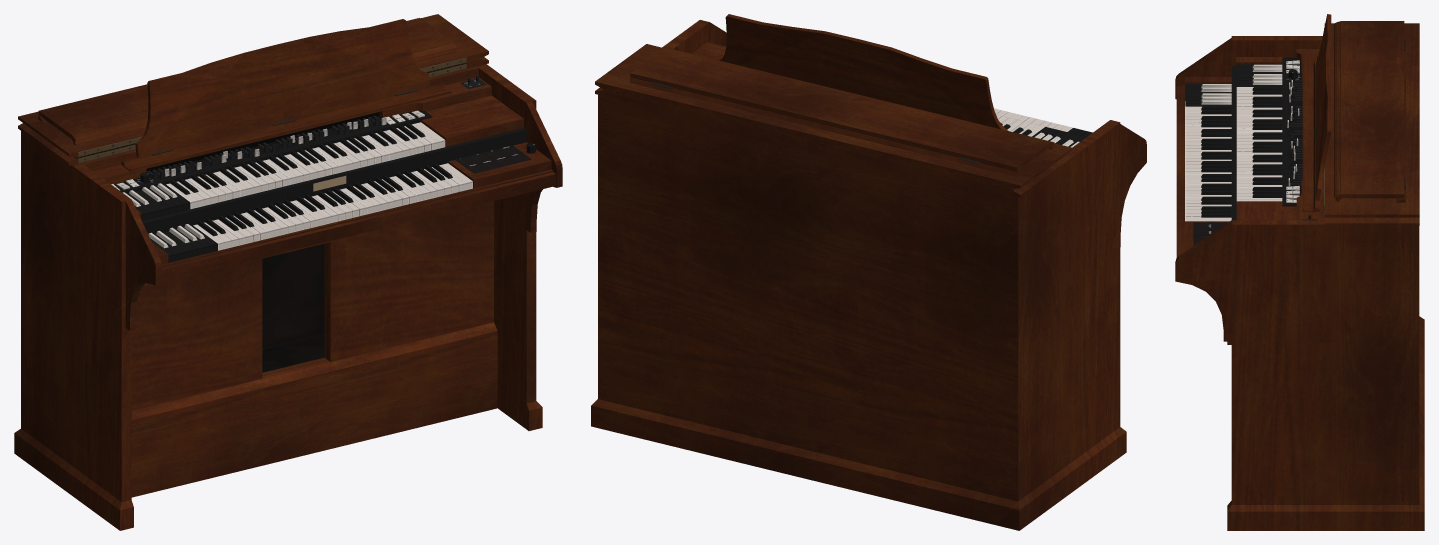
File: orgue_hammond_b3.glb
3 views of the same model, side by side, from view 1: azimuth 30°, elevation 25°; view 2: azimuth 150°, elevation 25°; view 3: azimuth 270°, elevation 25° (orthographic). The views are drawn at different scales.
Visible parts, largest first — view 1: organ_wood.mesh_2, organ_parts.mesh_1; view 2: organ_wood.mesh_2, organ_parts.mesh_1; view 3: organ_wood.mesh_2, organ_parts.mesh_1.
Part boxes in pixels (left/top/right/bottom): organ_wood.mesh_2: left=14, top=14, right=562, bottom=530; organ_parts.mesh_1: left=77, top=57, right=535, bottom=372; organ_wood.mesh_2: left=591, top=14, right=1146, bottom=530; organ_parts.mesh_1: left=650, top=46, right=1092, bottom=164; organ_wood.mesh_2: left=1175, top=14, right=1424, bottom=530; organ_parts.mesh_1: left=1185, top=28, right=1405, bottom=245.
Bounding box in the file's own units: 54.88 × 49.03 × 30.04.
Materials: 3 (3 with a texture image).
